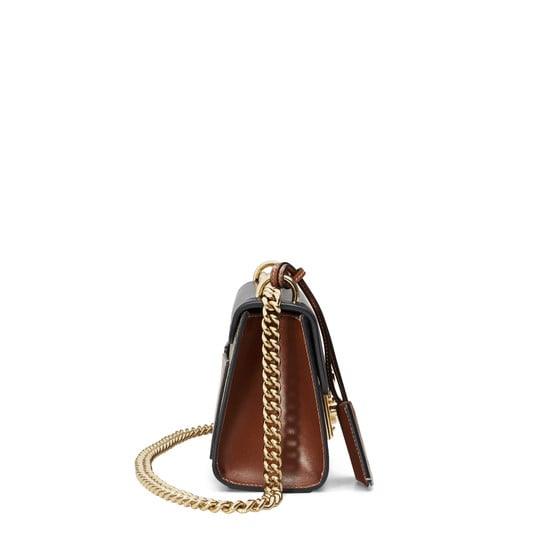Gucci: (214, 236, 348, 494)
